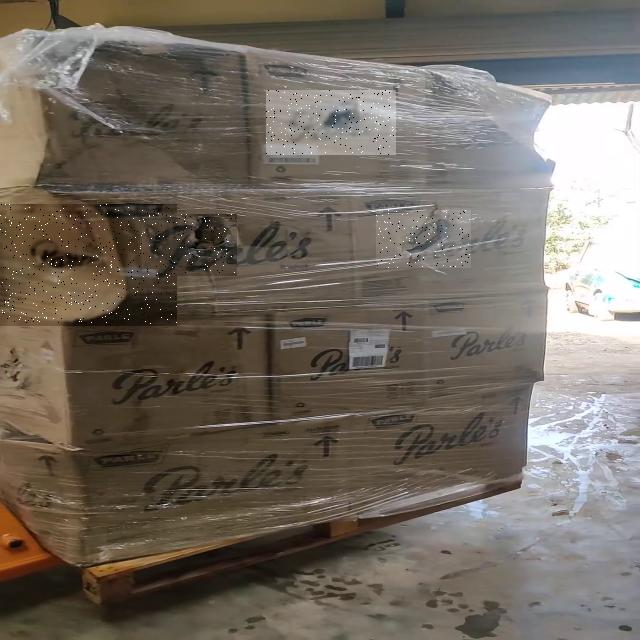squeeze: (0, 205, 177, 324)
tear: (266, 90, 395, 155), (142, 215, 236, 274), (377, 210, 470, 268)
